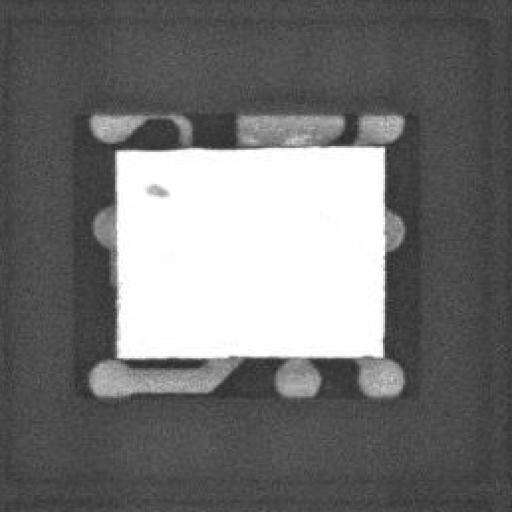DIE_INK: (135, 188, 159, 206)
